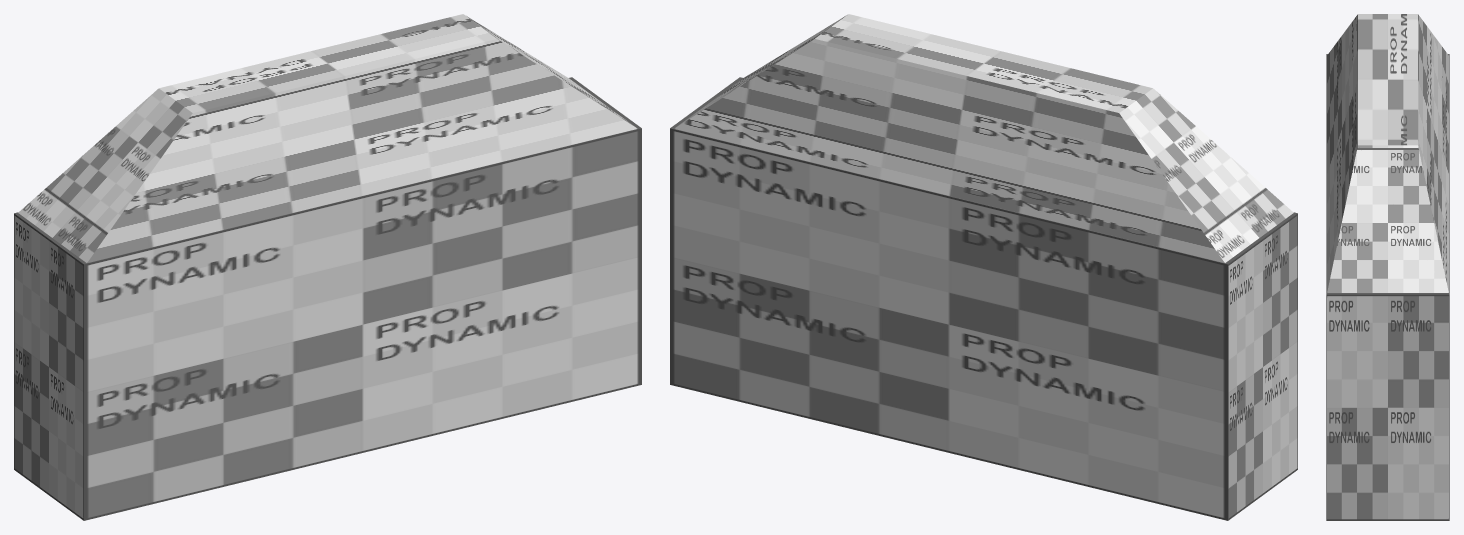
File: SNES Game.fbx
The picture shows the model from 3 angles, left to right: view 1: azimuth 30°, elevation 25°; view 2: azimuth 150°, elevation 25°; view 3: azimuth 270°, elevation 25°; orthographic projection. The views are drawn at different scales.
Visible parts, largest first — view 1: SNES_Game, Cube__107_; view 2: SNES_Game, Cube__107_; view 3: Cube__107_, SNES_Game.
Boxes of the visible parts, x1,y1,x2,y2 form: SNES_Game: (14, 77, 641, 520); Cube__107_: (18, 14, 637, 262); SNES_Game: (670, 77, 1297, 520); Cube__107_: (674, 14, 1293, 262); Cube__107_: (1327, 14, 1448, 292); SNES_Game: (1326, 54, 1449, 520).
Bounding box in the file's own units: 135 × 83.95 × 29.27.
